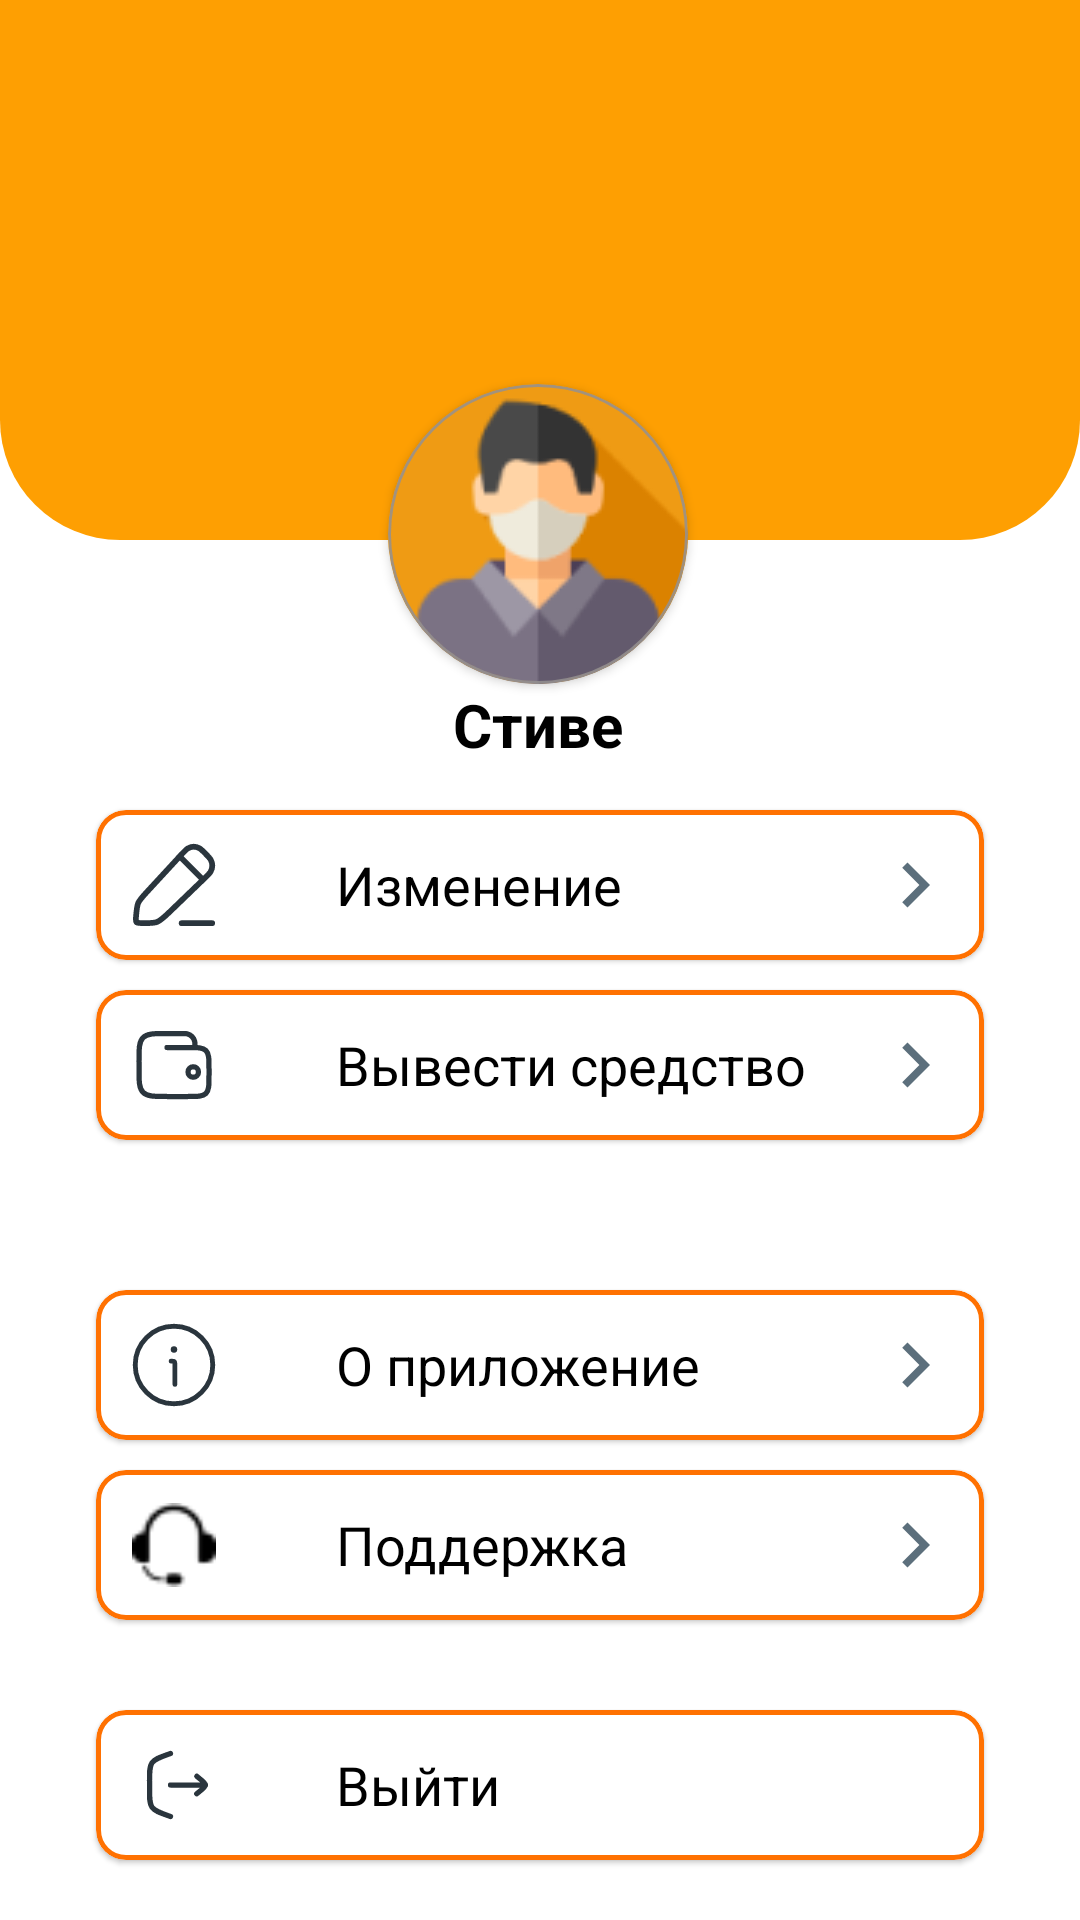

Named icons in this screenshot (1080 × 1920) and their centers, (x=x, y=y):
information: (x=174, y=1365)
man: (x=538, y=534)
pen: (x=174, y=884)
right: (x=916, y=885), (x=916, y=1065), (x=916, y=1365), (x=916, y=1545)
support: (x=174, y=1545)
wallet: (x=174, y=1065)
